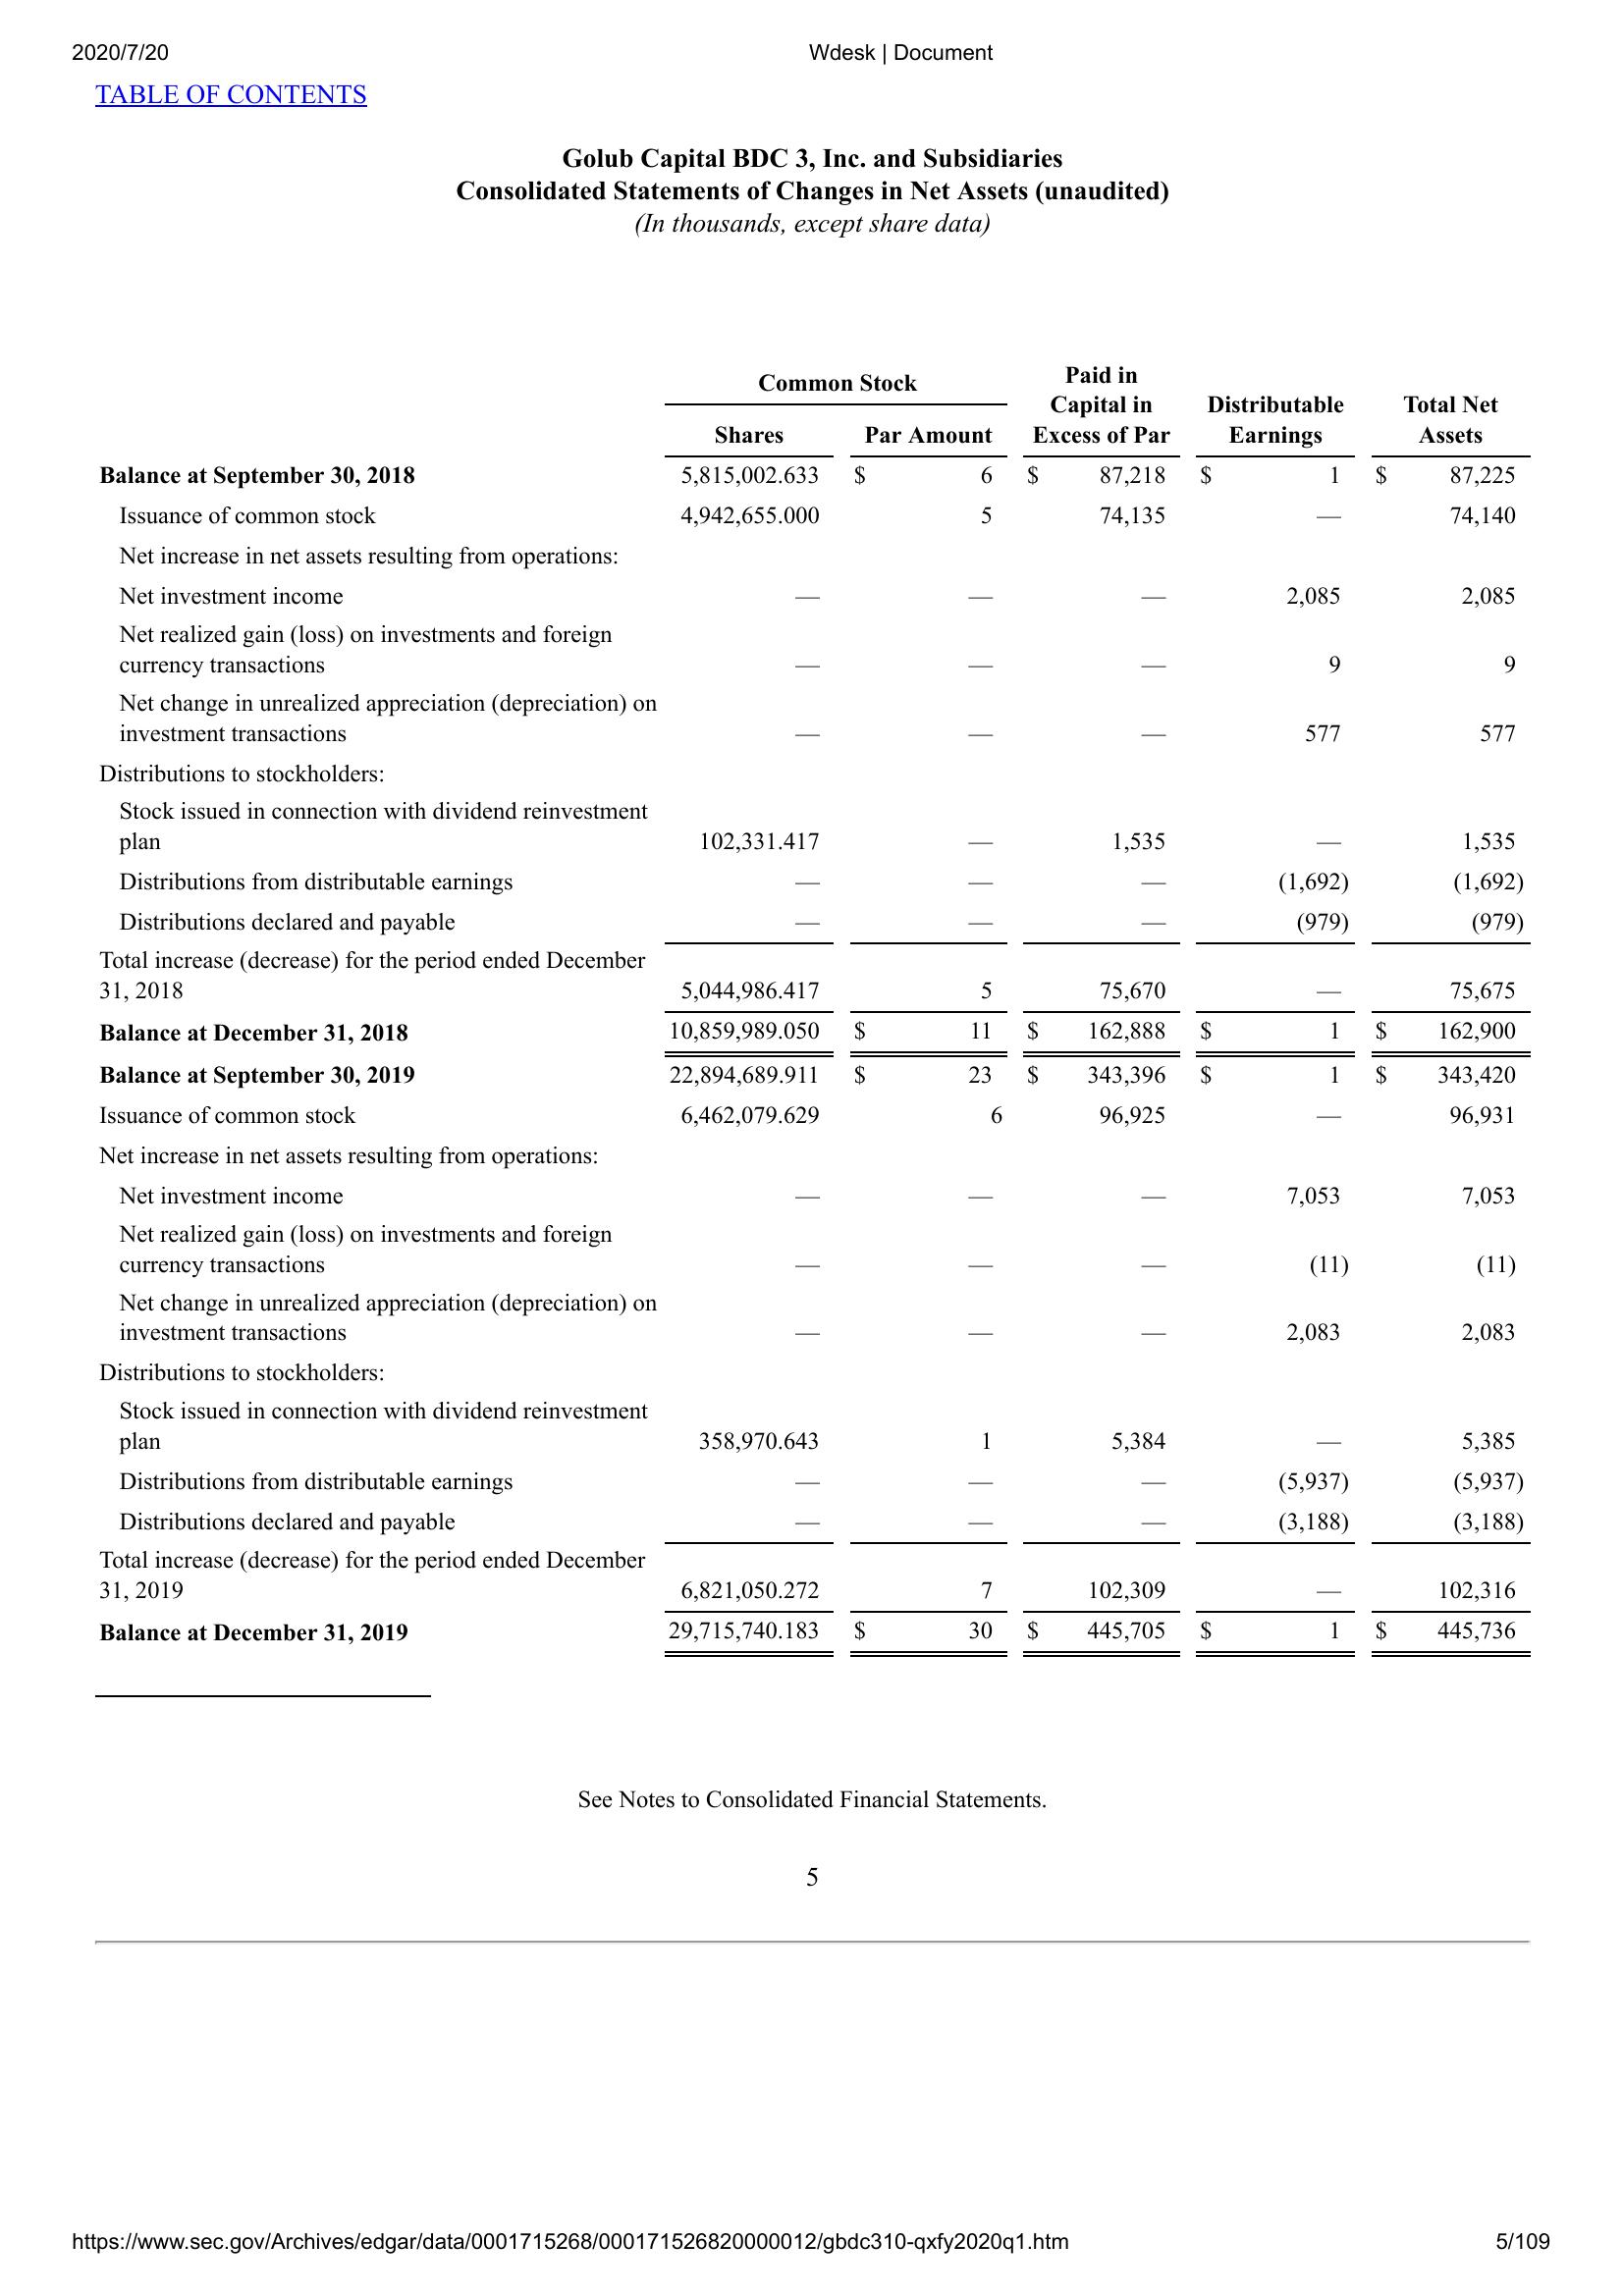table: (88, 342, 1542, 1671)
